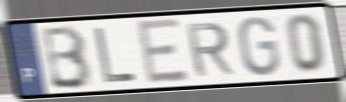0: (283, 11, 329, 76)
B: (41, 23, 95, 92)
E: (134, 17, 192, 88)
G: (236, 15, 282, 78)
L: (92, 26, 139, 86)
R: (183, 20, 237, 79)
